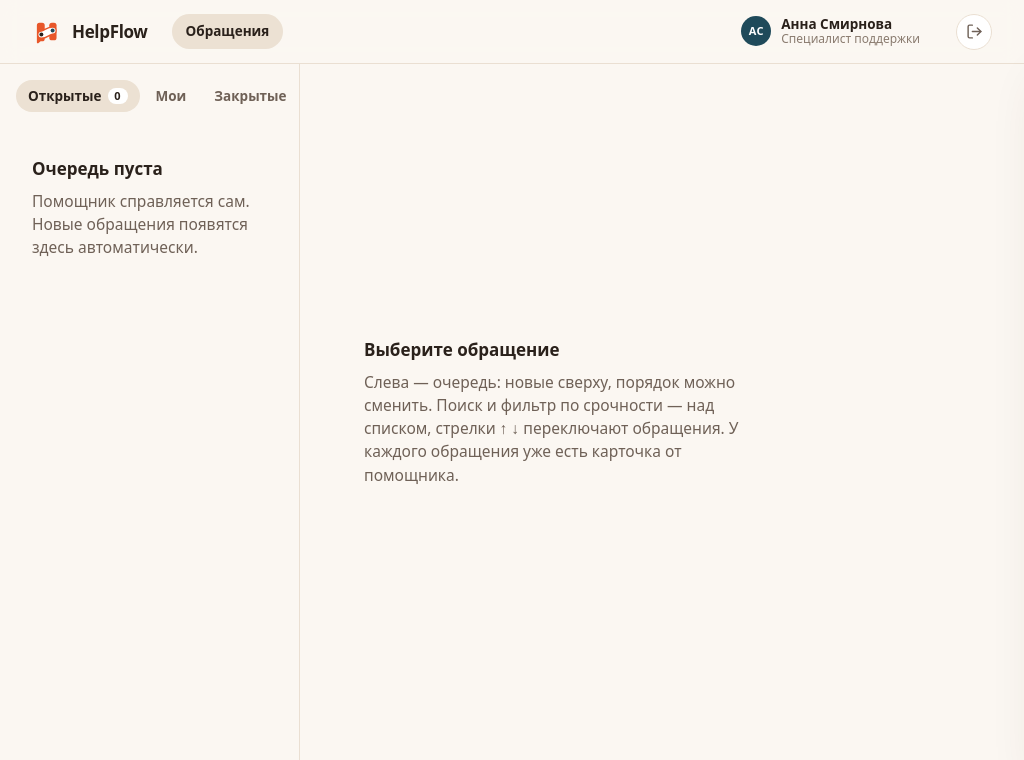
Test: route protection › opens the profile from the header for every role
Click the link with aria-label "Профиль" at x=835, y=32, box [737,12,932,51]
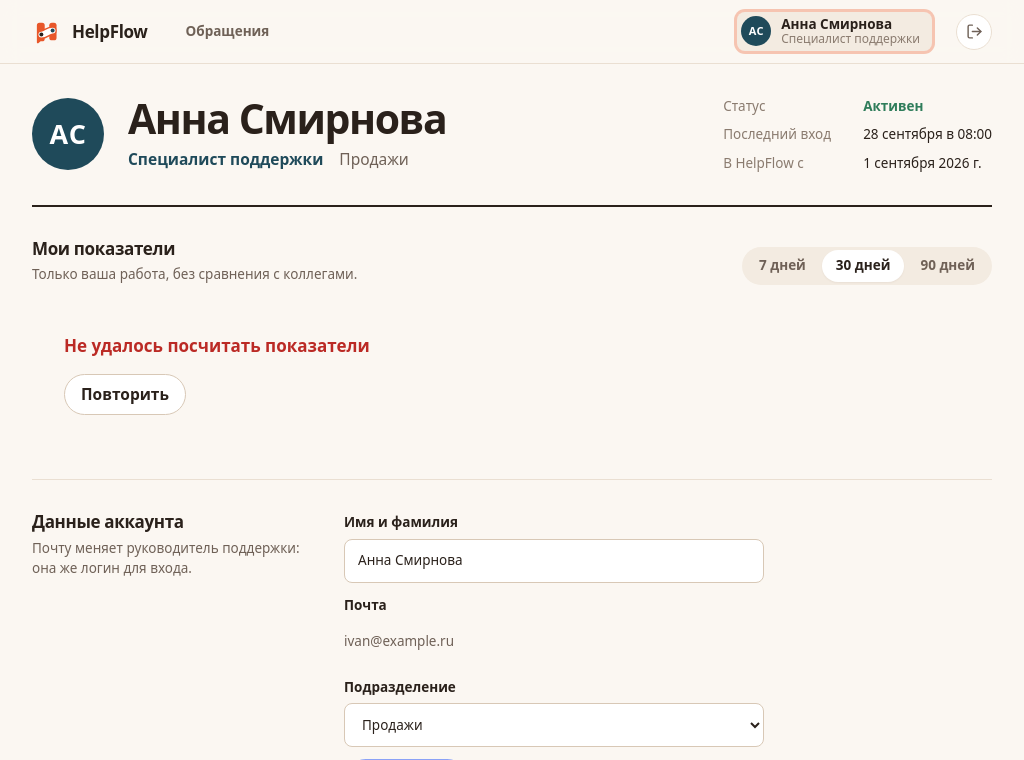
Expected: the heading "Анна Смирнова" is shown, [128,90,446,146]
